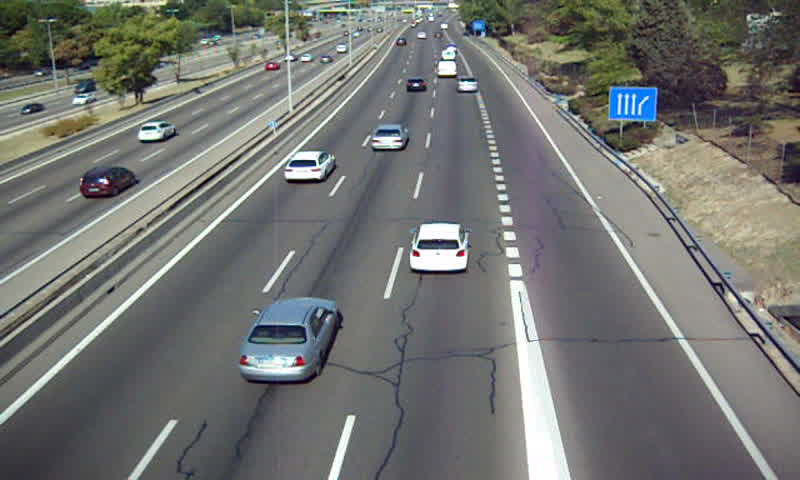car: (239, 296, 340, 383), (409, 223, 469, 272), (284, 151, 334, 182), (371, 124, 408, 152), (456, 76, 481, 94), (404, 78, 428, 94)
van: (436, 61, 458, 77), (443, 48, 457, 61)
